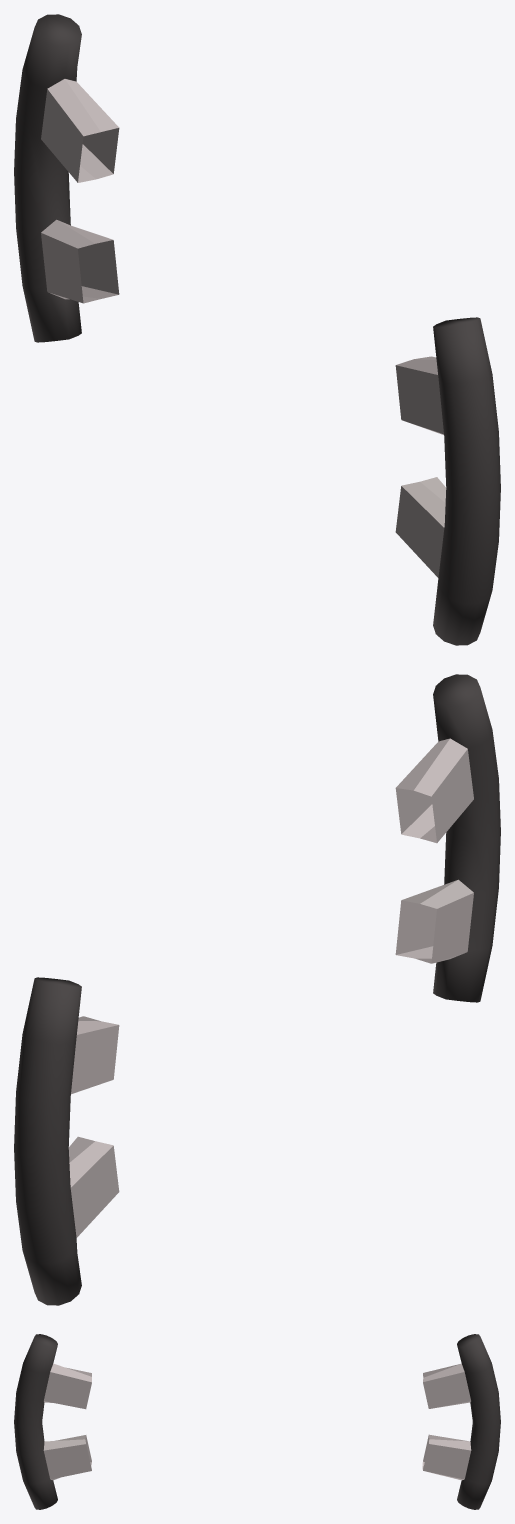
The model's file is handles.fbx.
3 renders of one model, top to bottom at view 1: azimuth 30°, elevation 25°; view 2: azimuth 150°, elevation 25°; view 3: azimuth 270°, elevation 25°, orthographic. The views are drawn at different scales.
Visible parts, largest first — view 1: handles; view 2: handles; view 3: handles.
Part boxes in pixels (<box>): handles: <box>14,14,500,645</box>; handles: <box>14,674,500,1305</box>; handles: <box>14,1334,500,1509</box>.
Size of the model in its own units: 4.78 by 31.05 by 80.27.
